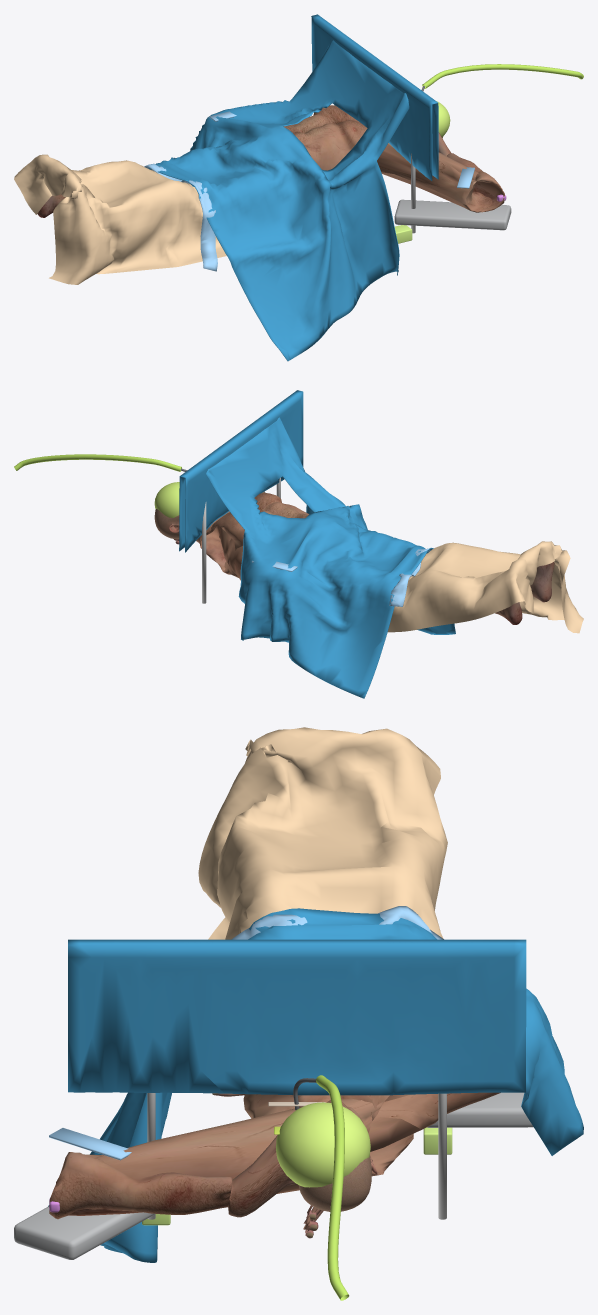
Rendered from patient.glb.
The picture shows the model from 3 angles, top to bottom: view 1: azimuth 30°, elevation 25°; view 2: azimuth 150°, elevation 25°; view 3: azimuth 270°, elevation 25°; orthographic projection. The views are drawn at different scales.
Visible parts, largest first — view 1: LapDrape, WarmingBlanket, PatientBody, ArmBoardL, ArmStrapL, Circuit.001; view 2: LapDrape, WarmingBlanket, PatientBody, Circuit.001, Cap, ArmStrapL, Cylinder; view 3: LapDrape, WarmingBlanket, PatientBody, ArmBoardL, Cap, Circuit.001, ArmStrapL, Cylinder, ArmBoardMountL.
Boxes of the visible parts, left/top/right/bottom form: LapDrape: left=148, top=14, right=438, bottom=361; WarmingBlanket: left=14, top=154, right=226, bottom=284; PatientBody: left=37, top=105, right=504, bottom=217; ArmBoardL: left=394, top=199, right=511, bottom=230; ArmStrapL: left=144, top=111, right=474, bottom=271; Circuit.001: left=422, top=64, right=583, bottom=88; LapDrape: left=179, top=390, right=455, bottom=698; WarmingBlanket: left=388, top=541, right=583, bottom=633; PatientBody: left=154, top=491, right=554, bottom=624; Circuit.001: left=14, top=454, right=181, bottom=471; Cap: left=154, top=482, right=179, bottom=517; ArmStrapL: left=251, top=548, right=432, bottom=606; Cylinder: left=202, top=477, right=280, bottom=603; LapDrape: left=48, top=908, right=583, bottom=1262; WarmingBlanket: left=198, top=727, right=447, bottom=939; PatientBody: left=49, top=1092, right=500, bottom=1238; ArmBoardL: left=14, top=1092, right=533, bottom=1259; Cap: left=276, top=1102, right=370, bottom=1187; Circuit.001: left=316, top=1075, right=349, bottom=1300; ArmStrapL: left=49, top=906, right=443, bottom=1160; Cylinder: left=147, top=1093, right=446, bottom=1219; ArmBoardMountL: left=142, top=1127, right=452, bottom=1225.
Size of what is drawn, in the model's own units: 2.56 by 0.9541 by 1.19.
23 materials, 5 textured.
